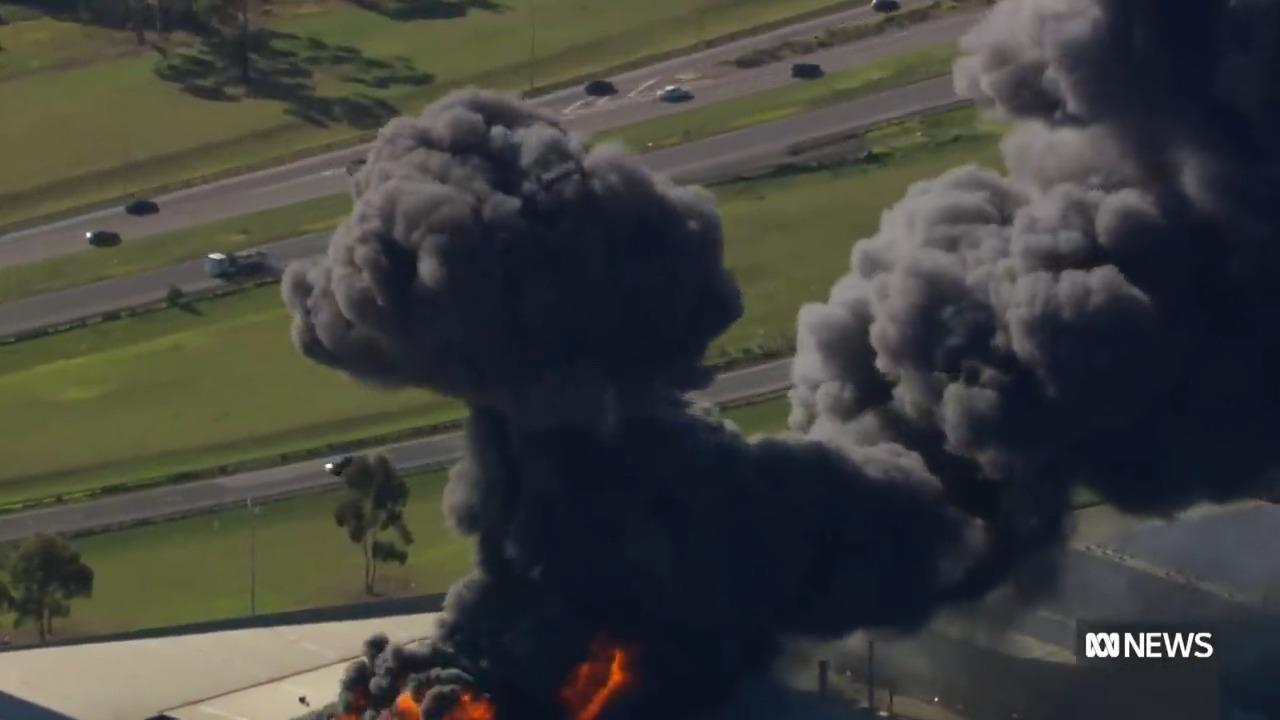fire: (380, 667, 651, 718)
